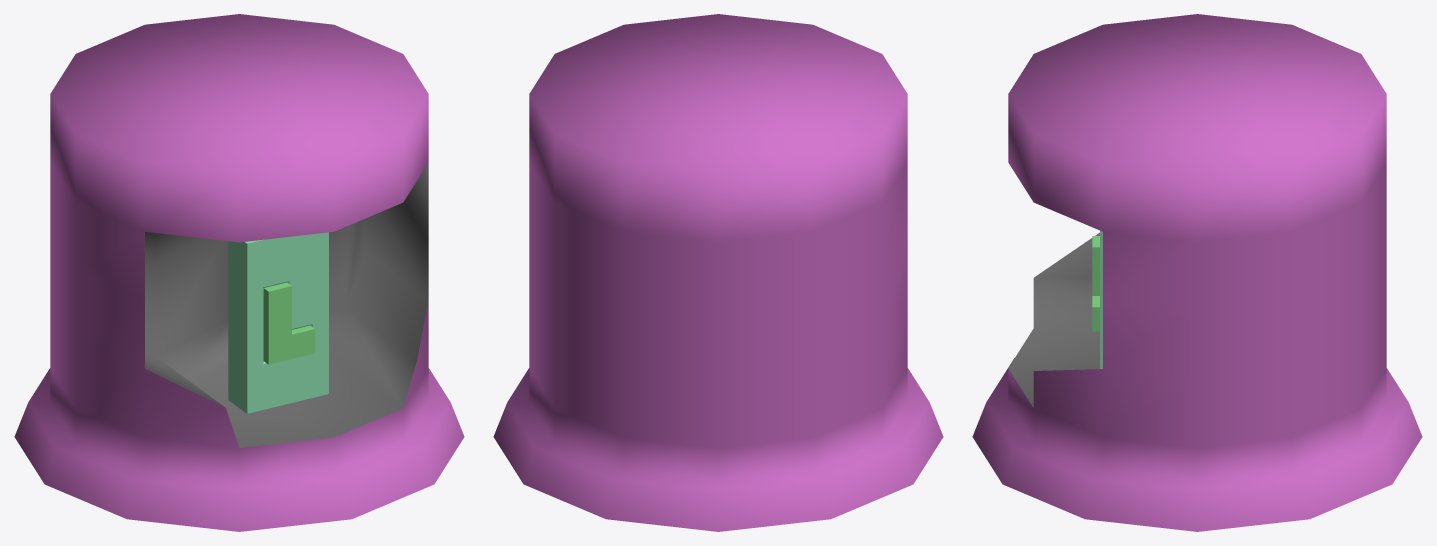
Rendered from Generator_L.fbx.
3 renders of one model, left to right at view 1: azimuth 30°, elevation 25°; view 2: azimuth 150°, elevation 25°; view 3: azimuth 270°, elevation 25°, orthographic.
Parts seen in each view (by area): view 1: Generator, L_Holder, Generator_L; view 2: Generator; view 3: Generator, Generator_L.
Part boxes in pixels (x1=…): Generator: x1=14, y1=14, x2=464, y2=531; L_Holder: x1=228, y1=232, x2=328, y2=413; Generator_L: x1=263, y1=282, x2=315, y2=364; Generator: x1=493, y1=14, x2=943, y2=531; Generator: x1=972, y1=14, x2=1422, y2=531; Generator_L: x1=1092, y1=236, x2=1099, y2=331.
Size of the model in its own units: 2.38 by 2 by 2.38.
